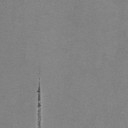slag inclusion: (37, 82, 41, 128)
